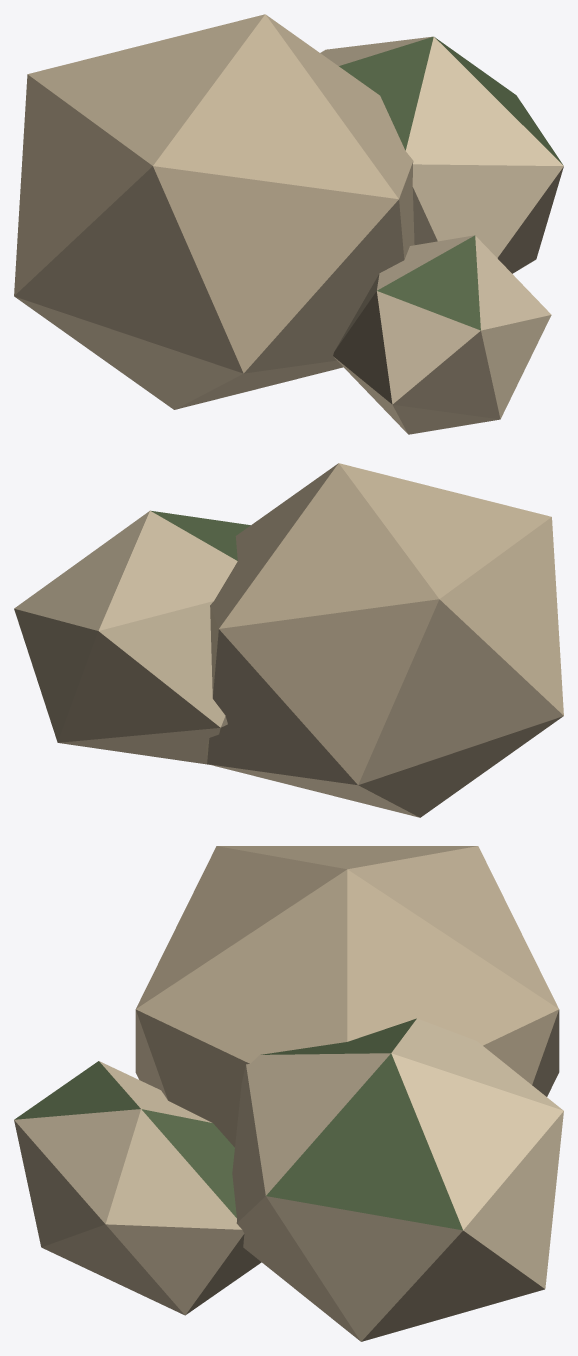
The model's file is rock_cluster_v1530_01.glb.
3 renders of one model, top to bottom at view 1: azimuth 30°, elevation 25°; view 2: azimuth 150°, elevation 25°; view 3: azimuth 270°, elevation 25°, orthographic. The views are drawn at different scales.
Parts seen in each view (by area): view 1: rock_cluster_v1530_01; view 2: rock_cluster_v1530_01; view 3: rock_cluster_v1530_01.
Part boxes in pixels (x1=…): rock_cluster_v1530_01: x1=14, y1=14, x2=563, y2=434; rock_cluster_v1530_01: x1=14, y1=463, x2=563, y2=817; rock_cluster_v1530_01: x1=14, y1=846, x2=563, y2=1341.
Size of the model in its own units: 1.01 by 0.6463 by 0.8266.
